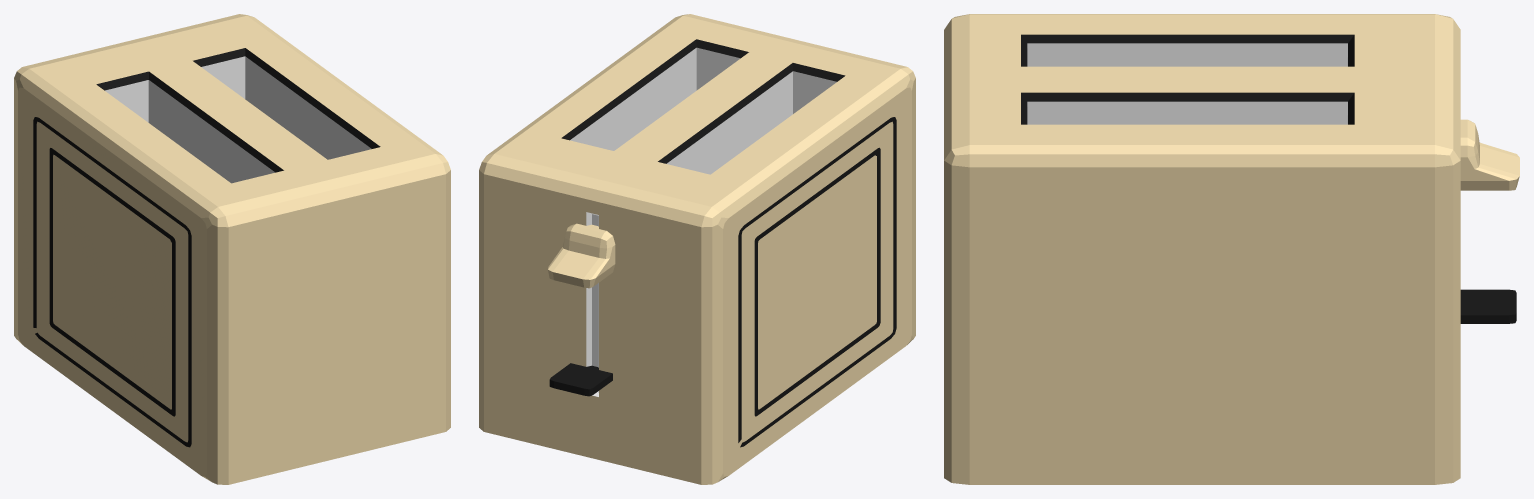
File: тостер.fbx
3 renders of one model, left to right at view 1: azimuth 30°, elevation 25°; view 2: azimuth 150°, elevation 25°; view 3: azimuth 270°, elevation 25°, orthographic. The views are drawn at different scales.
Parts seen in each view (by area): view 1: Cube.050; view 2: Cube.050; view 3: Cube.050.
Part boxes in pixels (x1,y1,x2,y2): Cube.050: (14,14,450,484); Cube.050: (479,14,915,484); Cube.050: (944,14,1519,484).
Bounding box in the file's own units: 310 × 334 × 523.
